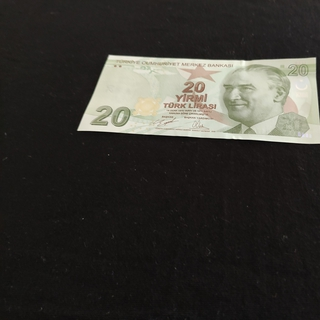20TLFront: (75, 53, 320, 147)
